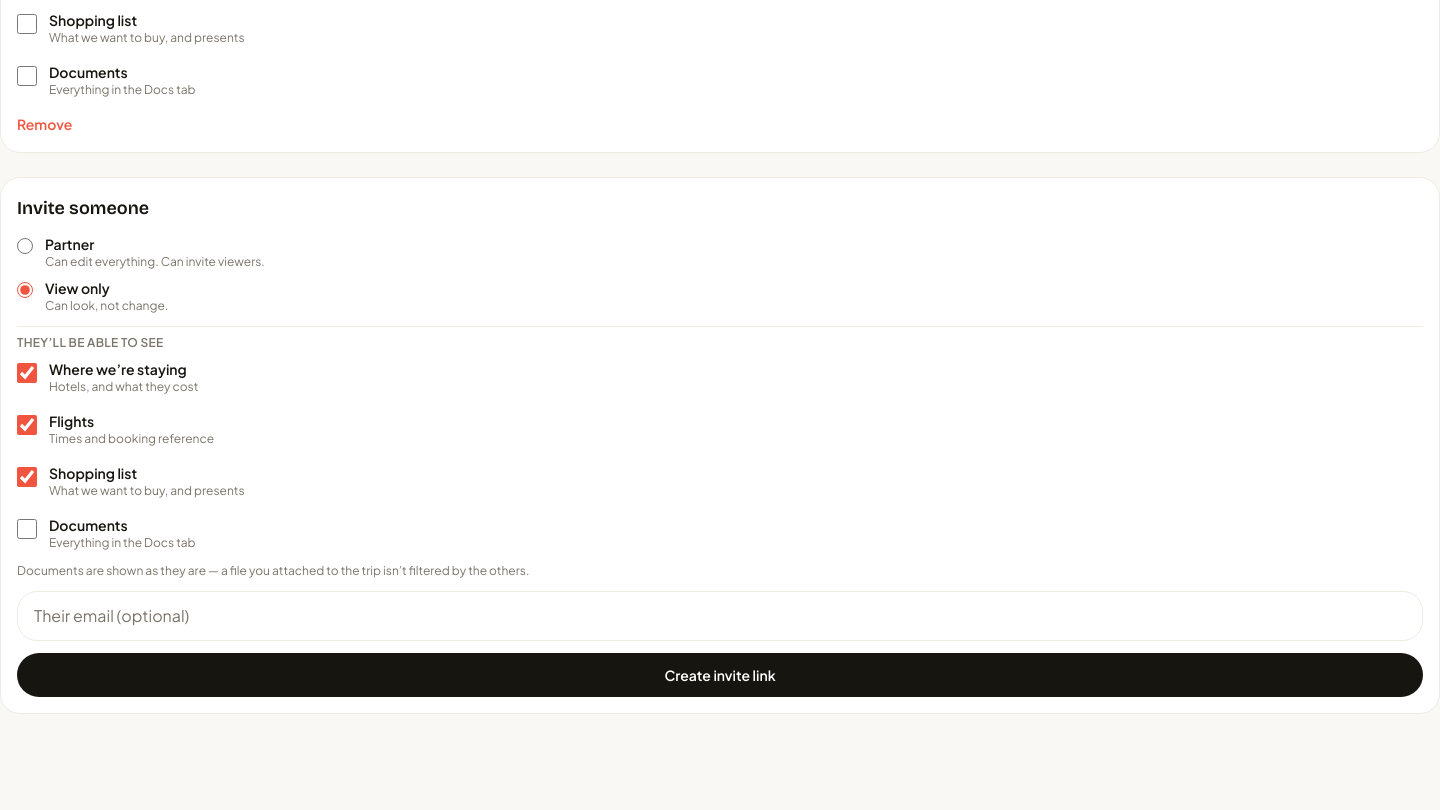
Test: the roster adapts to your role › surfaces the minted link once, with the copy-it-now warning
This screenshot has width=1440, height=810.
(page scrolled)
Click the button "Create invite link".
click(720, 675)  # box [17,653,1423,697]
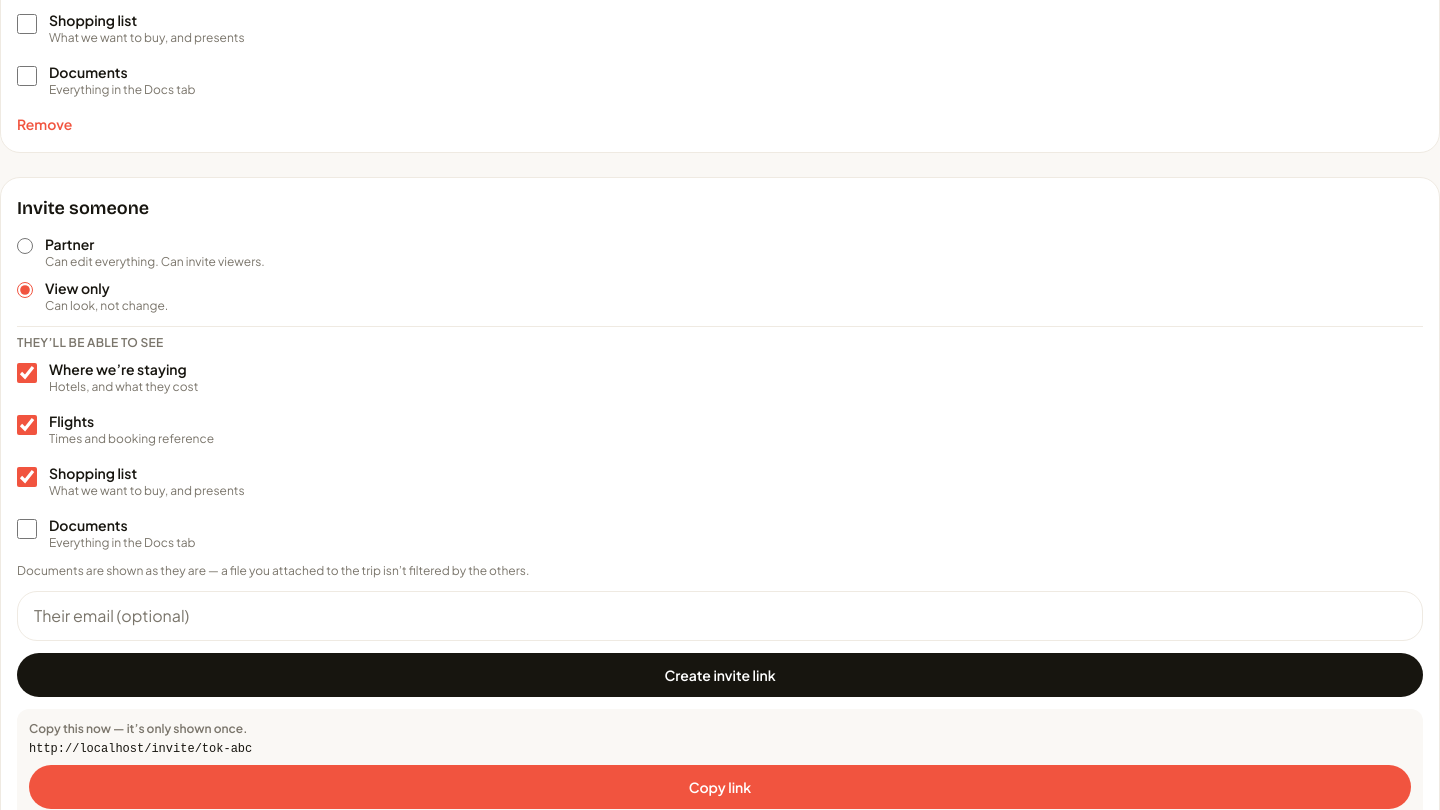
Check: the text "Copy this now — it’s only shown once." is shown, box [29,721,247,736]
Check: the text "http://localhost/invite/tok-abc" is shown, box [29,742,252,756]
